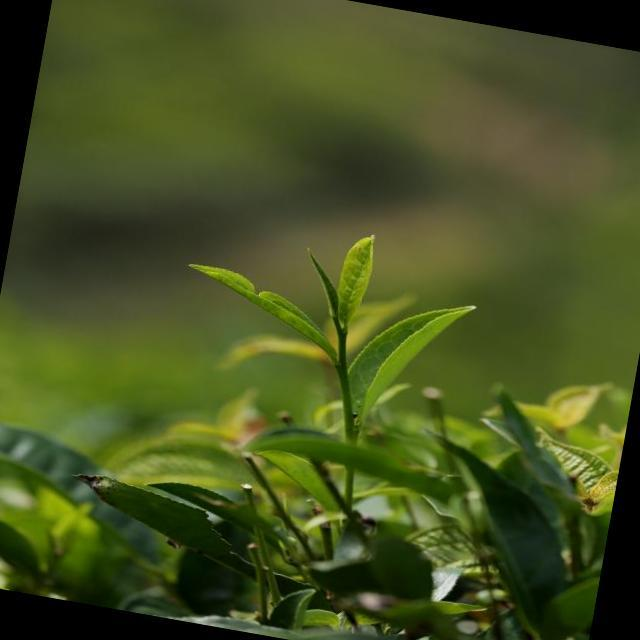Stem: (336, 362, 346, 371)
